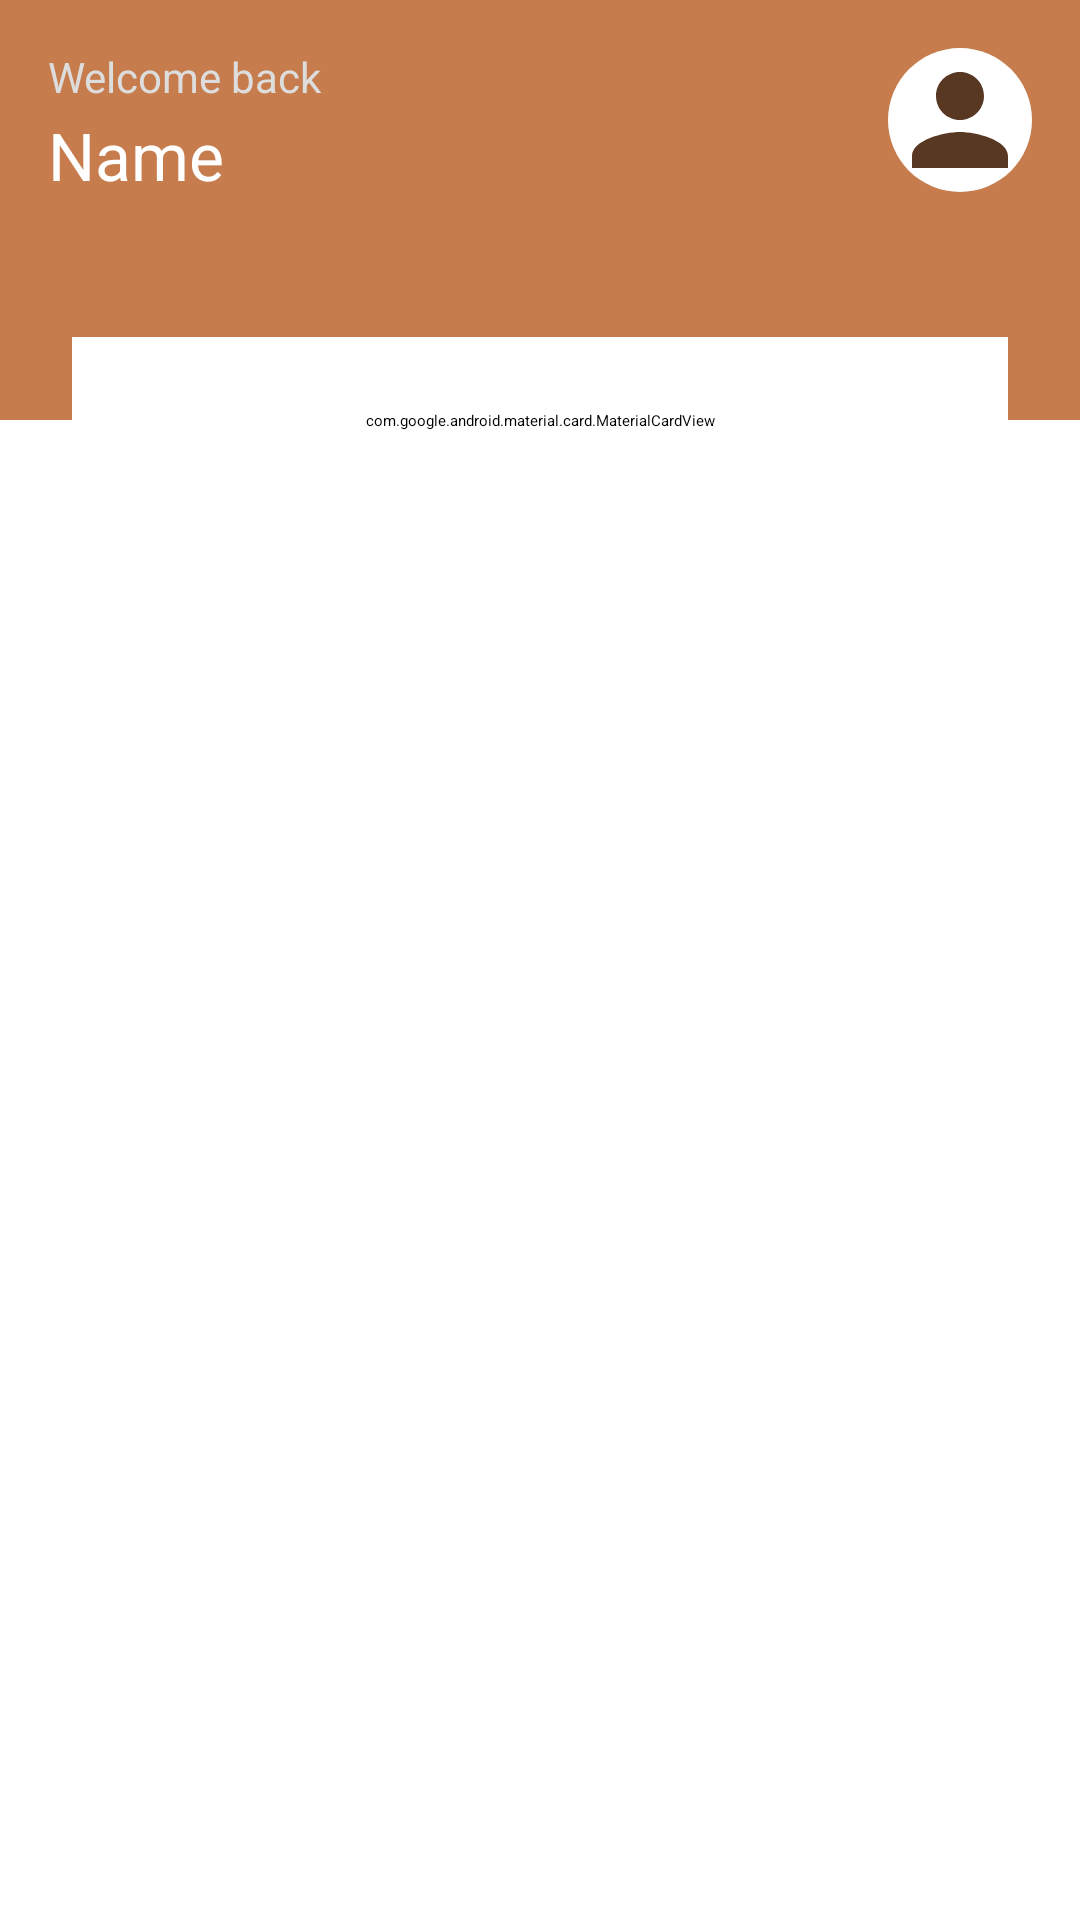

Locate icon controls on the screen. Image size 1080px×1920px, boxes as (x1, y1, x2, y2).
person: (888, 48, 1032, 192)
